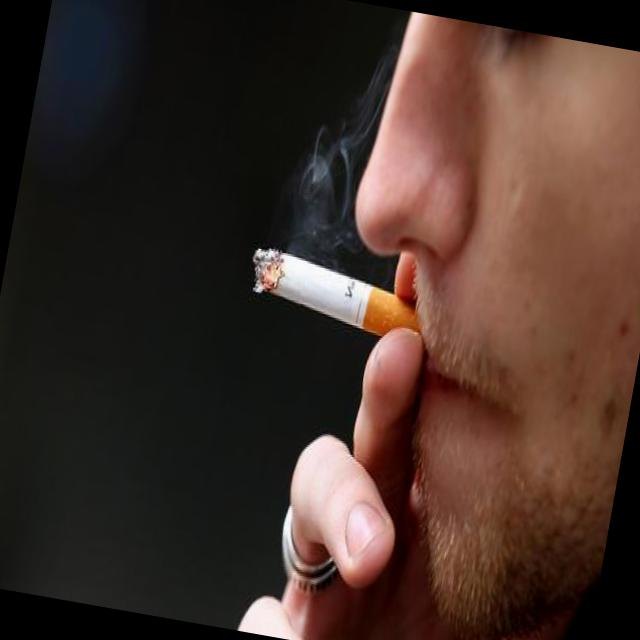smoke: (230, 186, 478, 392)
